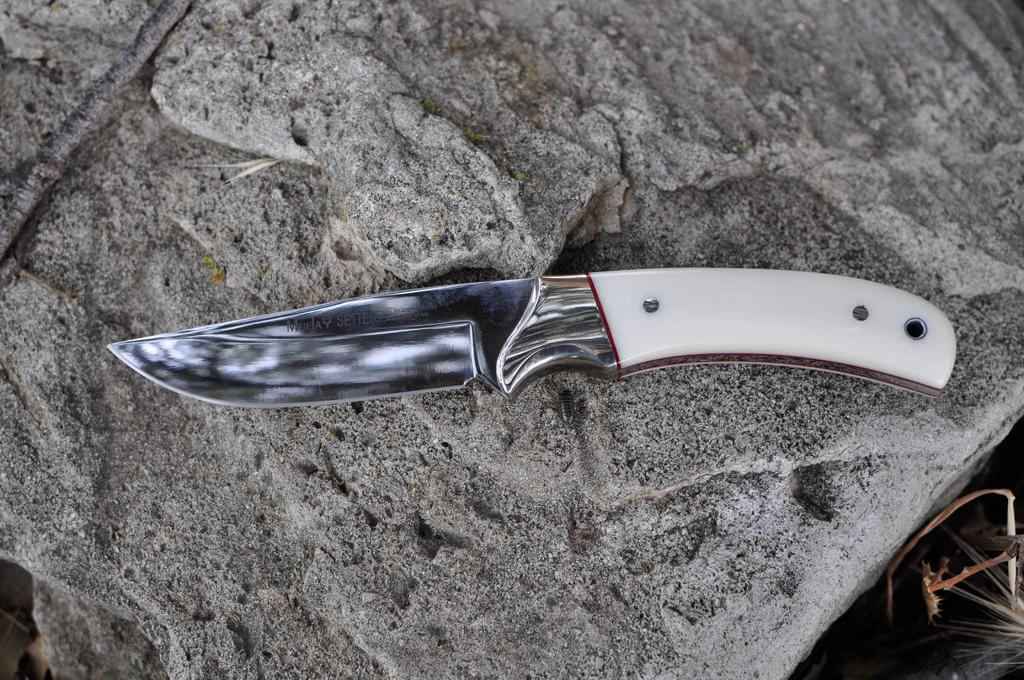Knife: (104, 266, 959, 410)
